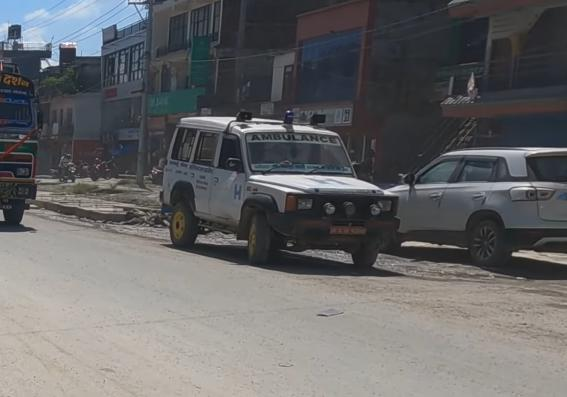ambulance: (156, 106, 405, 268)
car: (380, 139, 567, 267)
truck: (0, 67, 45, 225)
